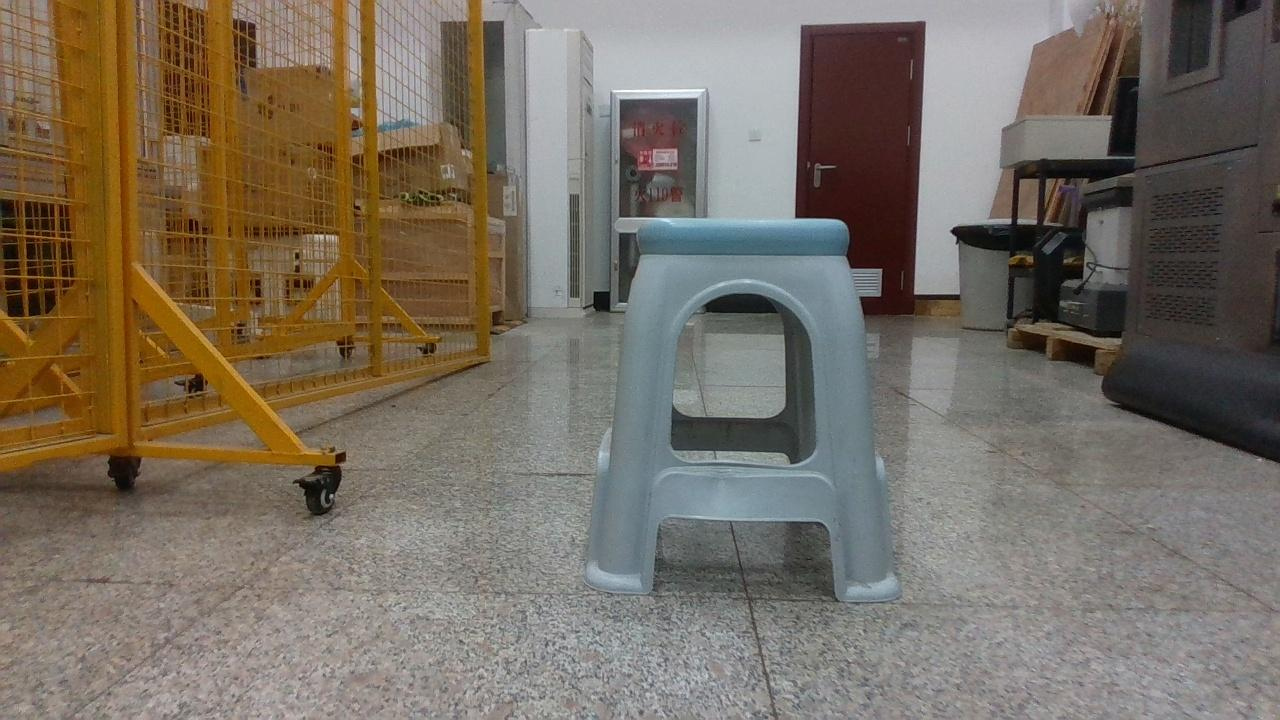stool: (585, 218, 900, 602)
